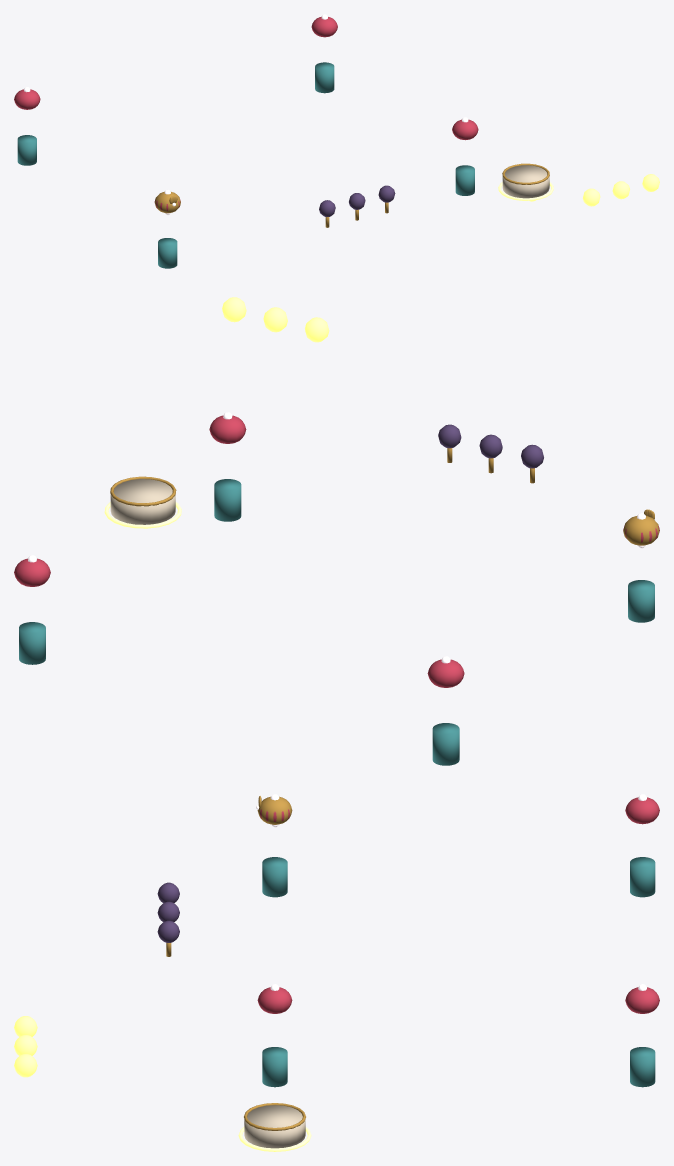
The model's file is opera_boxer_dressing.glb.
The picture shows the model from 3 angles, top to bottom: view 1: azimuth 30°, elevation 25°; view 2: azimuth 150°, elevation 25°; view 3: azimuth 270°, elevation 25°; orthographic projection. The views are drawn at different scales.
Visible parts, largest first — view 1: VisualMesh; view 2: VisualMesh; view 3: VisualMesh.
Boxes of the visible parts, x1,y1,x2,y2 form: VisualMesh: [14, 14, 549, 268]; VisualMesh: [14, 412, 659, 765]; VisualMesh: [157, 794, 659, 1148].
Size of the model in its own units: 30.1 by 6.62 by 31.63.
